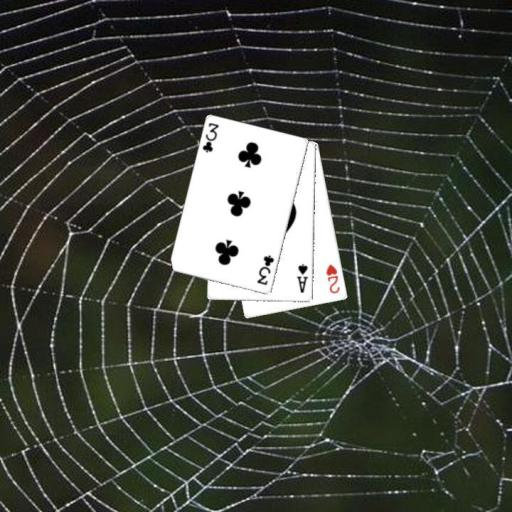2H: (323, 261, 341, 295)
3C: (254, 252, 276, 287), (199, 120, 221, 155)
AS: (294, 261, 310, 294)
